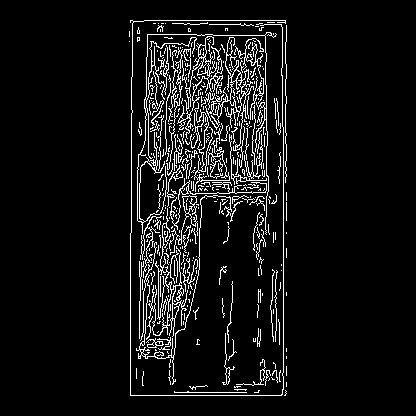buddha-pyre: (194, 36, 228, 120)
